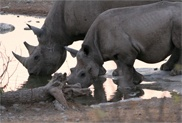rhino: (11, 0, 162, 76), (63, 1, 182, 90)
